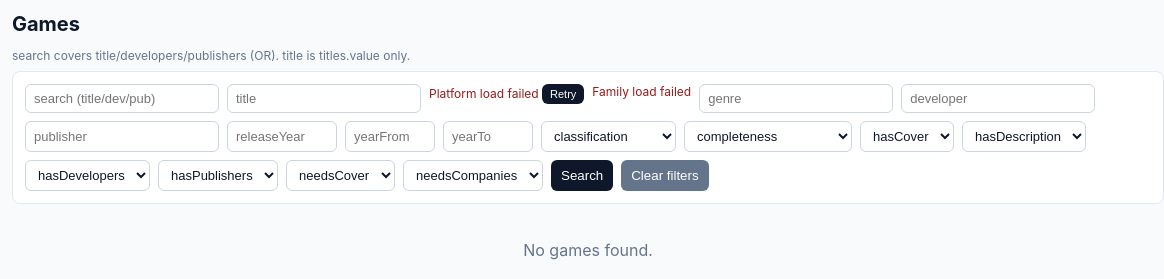
Test: FASE 4.11 — PLATFORM / PLATFORMFAMILY SELECTS › 17. erro + retry
The image size is (1164, 279).
Expected: the text "Platform load failed Retry" is shown, [429,84,584,113]
Click the button "Retry": (563, 94) [542,84,584,104]
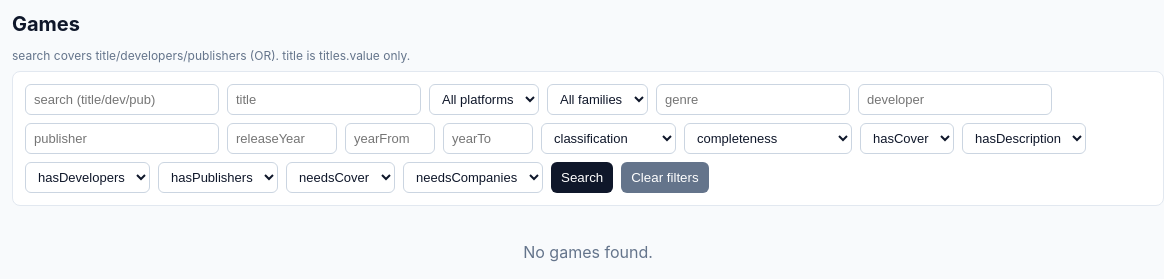
Expected: the text "Platform load failed" is gone
